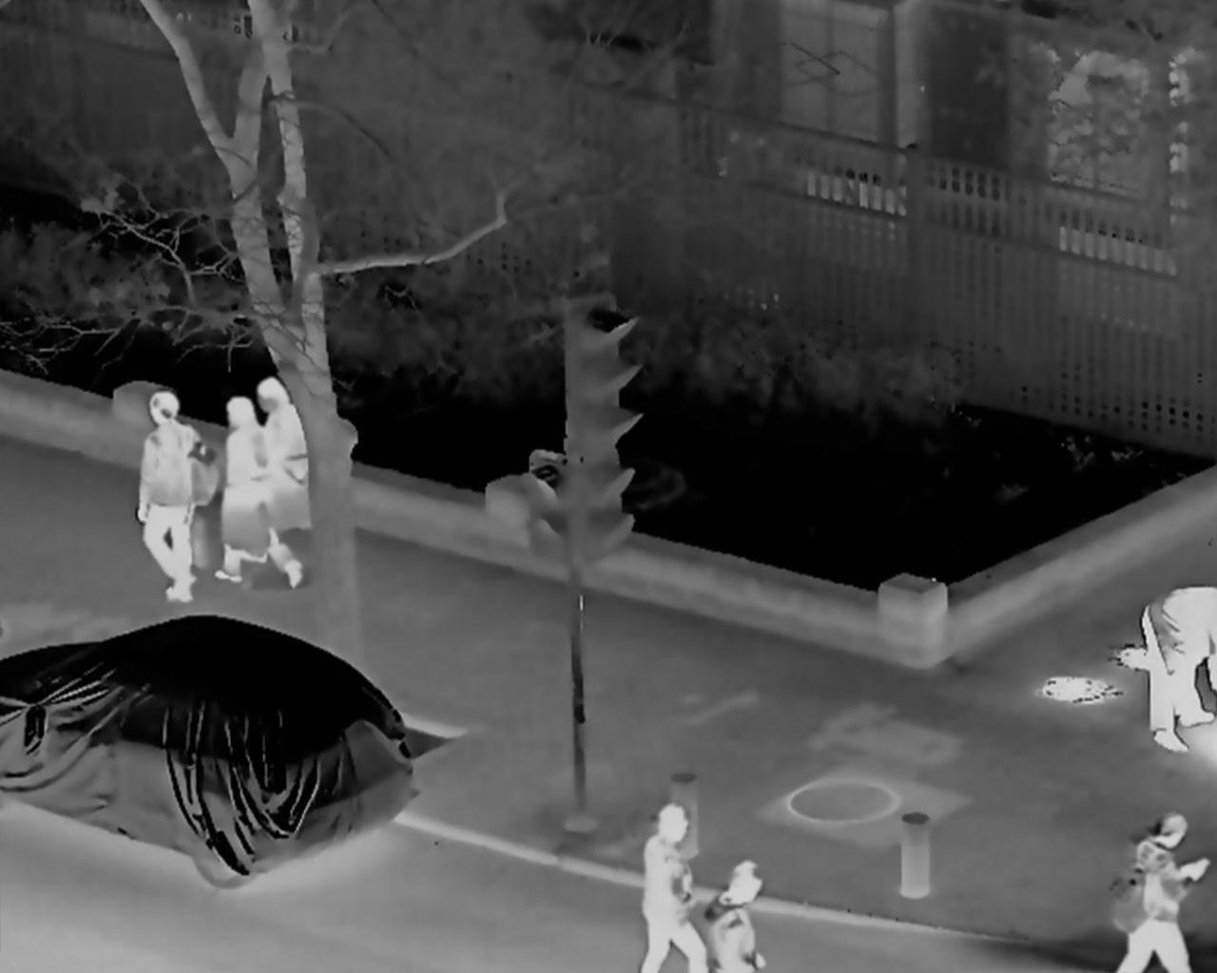person: (208, 397, 302, 585), (130, 393, 208, 597), (246, 379, 326, 563), (1140, 586, 1217, 753), (1115, 817, 1196, 973), (636, 809, 709, 973), (700, 857, 766, 973)
